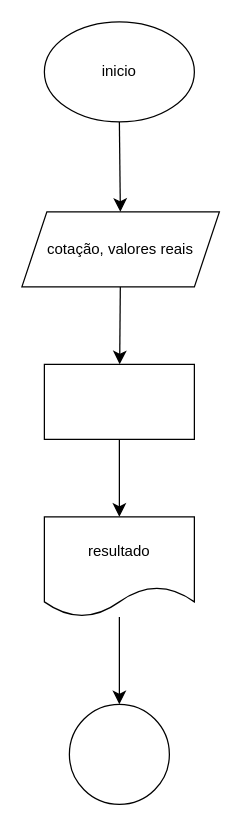
Image size: 241x826. Some labels were removed from this diagram. The shapes that lost their labels are listed below. From the top down, each one's centre as x and y in pixels, then its label:
[118,401]: resultado = (valorreais/cotacao)
[118,753]: fim
